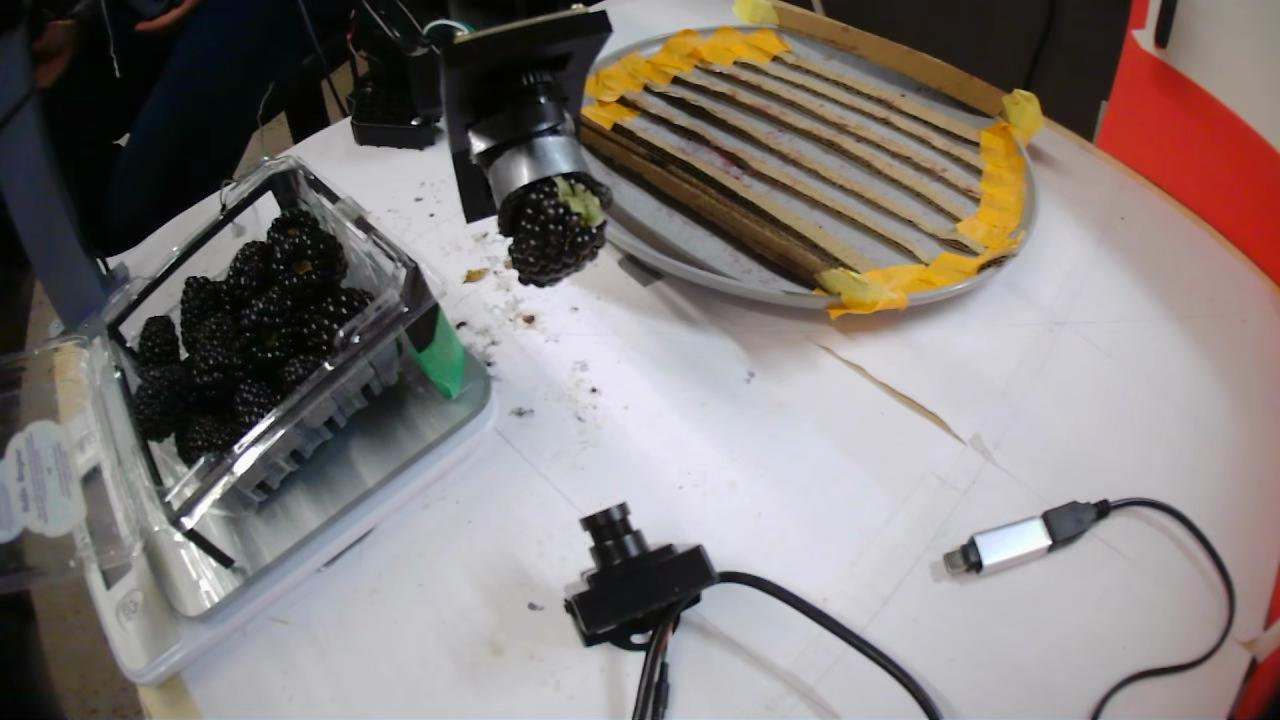berry: (508, 182, 604, 287), (274, 228, 347, 308), (292, 287, 367, 355), (242, 285, 301, 365), (190, 314, 242, 400), (131, 361, 184, 440), (223, 242, 273, 315), (182, 277, 225, 357), (176, 415, 240, 462), (233, 378, 280, 433), (134, 315, 180, 367), (266, 208, 325, 245), (281, 352, 323, 393)
